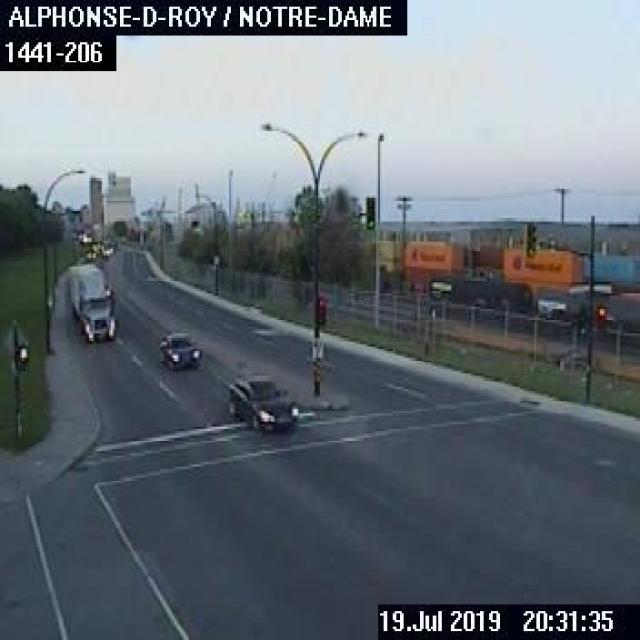vehicle: (224, 371, 300, 433), (64, 260, 116, 340), (156, 329, 204, 369)
